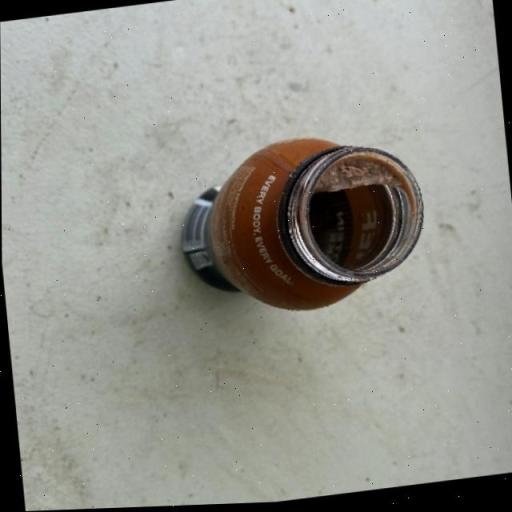plastic: (171, 124, 431, 326)
